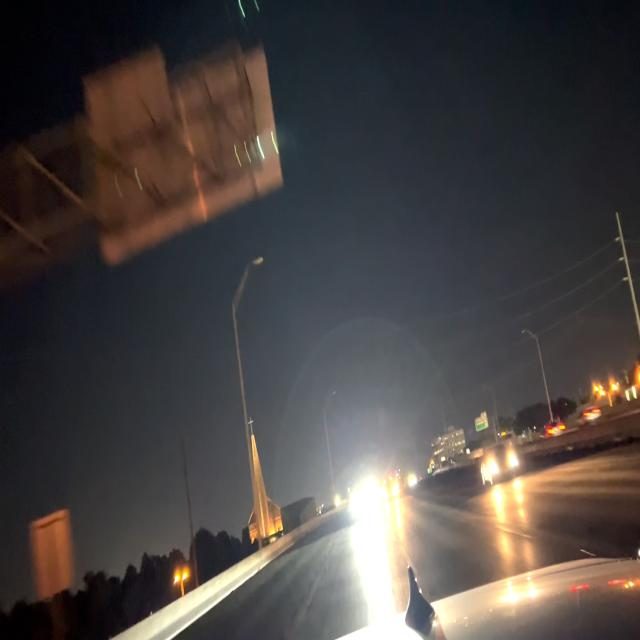back-of-sign: (84, 46, 283, 262), (30, 506, 79, 601)
